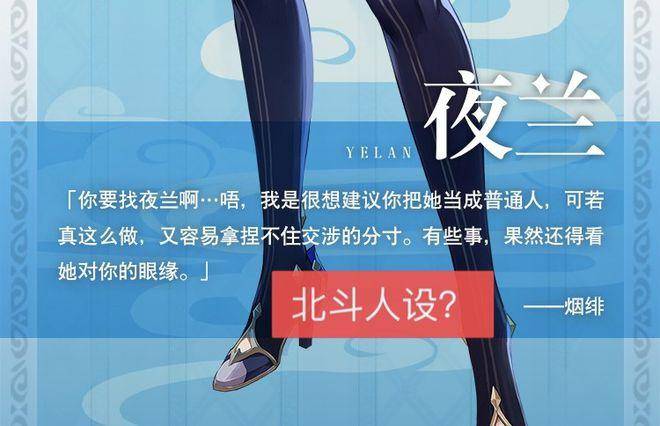夜兰: (208, 1, 529, 424)
